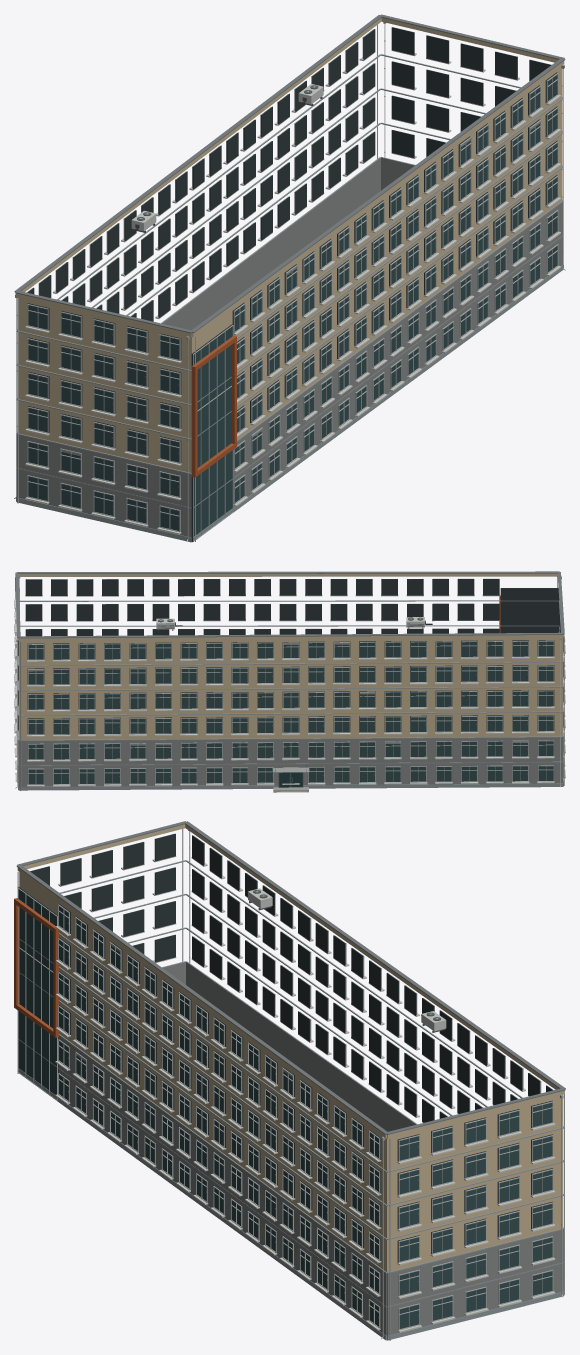
Rendered from osm_way_1173057051.glb.
The picture shows the model from 3 angles, top to bottom: view 1: azimuth 30°, elevation 25°; view 2: azimuth 150°, elevation 25°; view 3: azimuth 270°, elevation 25°; orthographic projection. The views are drawn at different scales.
Parts seen in each view (by area): view 1: Windows and facade details | 自动化学院、人工智能学院, Architecture | 自动化学院、人工智能学院, Roof services | 自动化学院、人工智能学院, EXTERIOR::osm_way_1173057051::rainwater and roof service det; view 2: Windows and facade details | 自动化学院、人工智能学院, Architecture | 自动化学院、人工智能学院, Roof services | 自动化学院、人工智能学院, EXTERIOR::osm_way_1173057051::rainwater and roof service det, EXTERIOR::osm_way_1173057051::inferred entry doors canopy an, EXTERIOR::osm_way_1173057051::native pane seals and hardware; view 3: Windows and facade details | 自动化学院、人工智能学院, Architecture | 自动化学院、人工智能学院, Roof services | 自动化学院、人工智能学院, EXTERIOR::osm_way_1173057051::rainwater and roof service det.
Part boxes in pixels (box(x1,y1,x2,y2)): Windows and facade details | 自动化学院、人工智能学院: box(17, 24, 560, 541); Architecture | 自动化学院、人工智能学院: box(15, 18, 564, 542); Roof services | 自动化学院、人工智能学院: box(14, 14, 565, 333); EXTERIOR::osm_way_1173057051::rainwater and roof service det: box(14, 22, 565, 541); Windows and facade details | 自动化学院、人工智能学院: box(14, 576, 565, 790); Architecture | 自动化学院、人工智能学院: box(17, 573, 563, 790); Roof services | 自动化学院、人工智能学院: box(15, 571, 564, 638); EXTERIOR::osm_way_1173057051::rainwater and roof service det: box(15, 576, 561, 788); EXTERIOR::osm_way_1173057051::inferred entry doors canopy an: box(272, 764, 309, 792); EXTERIOR::osm_way_1173057051::native pane seals and hardware: box(28, 643, 527, 777); Windows and facade details | 自动化学院、人工智能学院: box(17, 829, 564, 1340); Architecture | 自动化学院、人工智能学院: box(14, 824, 564, 1340); Roof services | 自动化学院、人工智能学院: box(16, 821, 565, 1134); EXTERIOR::osm_way_1173057051::rainwater and roof service det: box(188, 830, 563, 1339).
Bounding box in the file's own units: 73.76 × 23.58 × 54.95.
